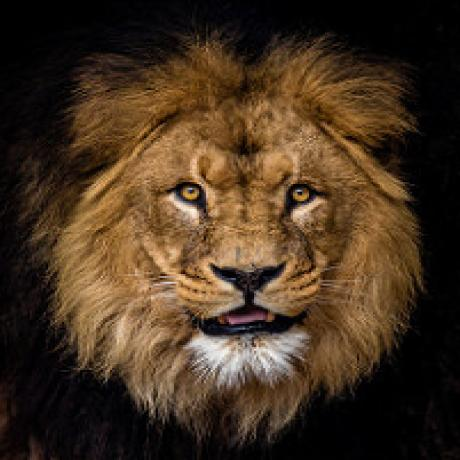Lion: (29, 19, 430, 459)
